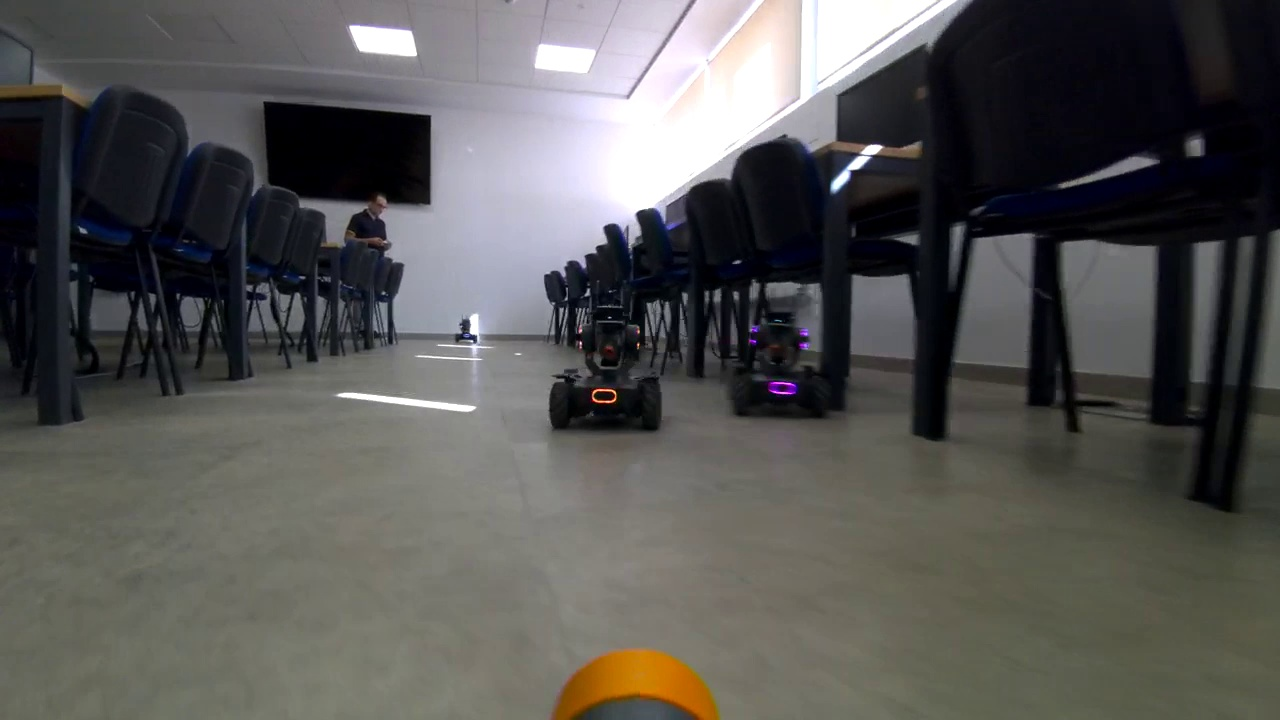robot: (548, 303, 670, 432), (728, 304, 828, 424)
